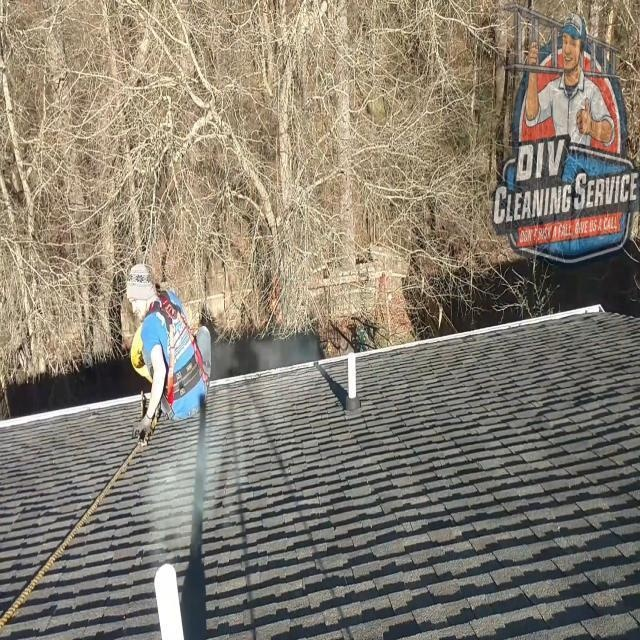Arnes_seguridad: (145, 281, 209, 428)
